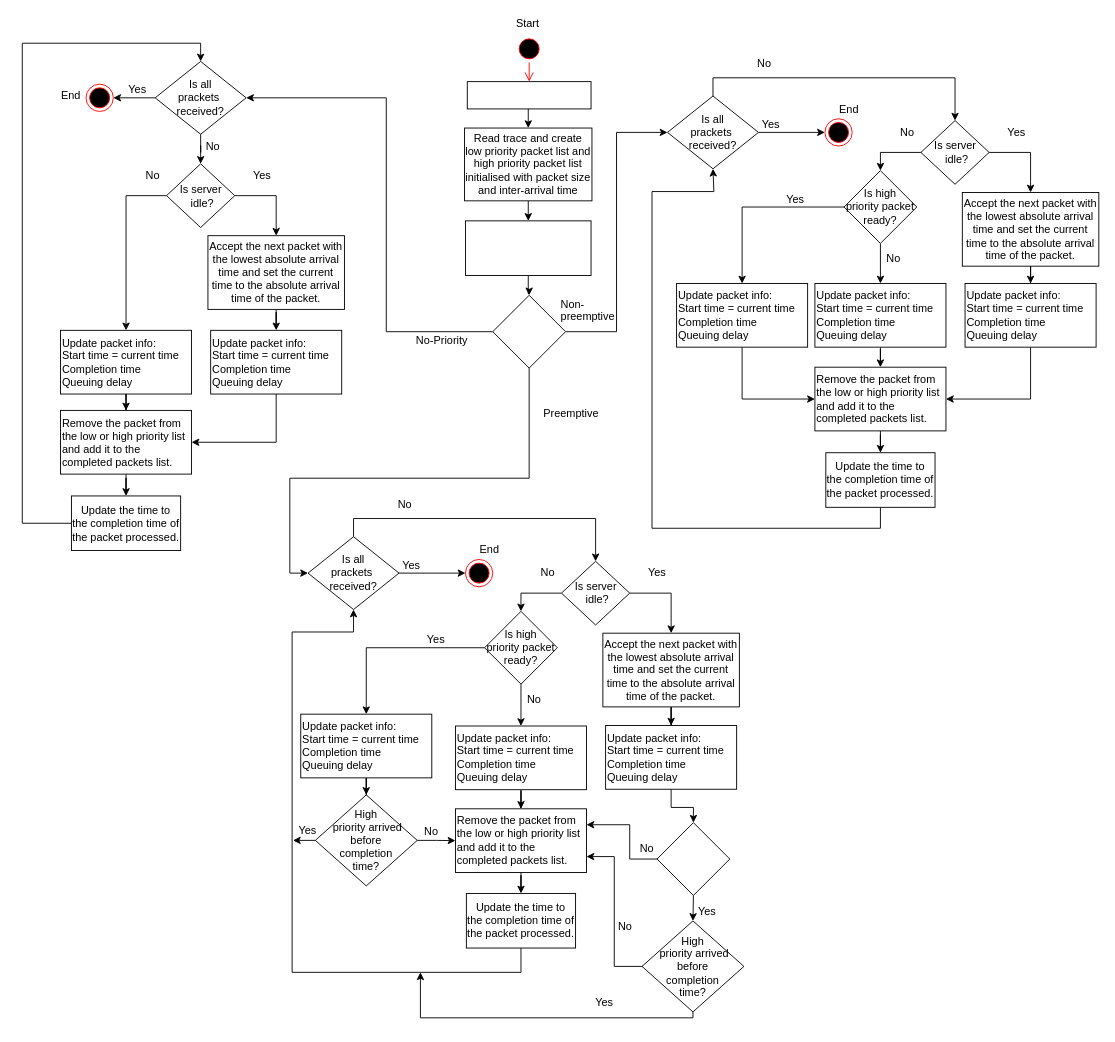
Image size: 1115x1042. Some labels were removed from this diagram. The shapes that lost their labels are listed below. From the top down, each one's centre as x and y in pixels, then its label:
(528,95): Generate trace file. Current time = 0.
(528,247): Calculate absolute arrival time and transmission time of each packet
(529,331): Simulator selected?
(693,858): Was the packet low priority?
